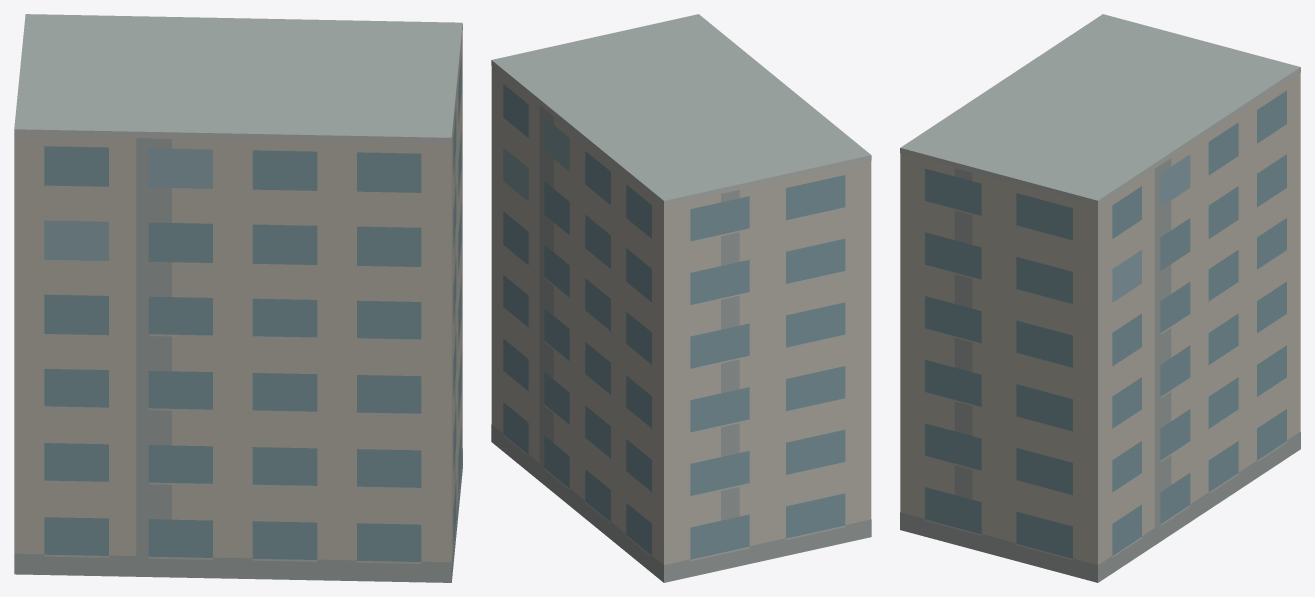
Rendered from survey-upis-32765903.glb.
The picture shows the model from 3 angles, left to right: view 1: azimuth 30°, elevation 25°; view 2: azimuth 150°, elevation 25°; view 3: azimuth 270°, elevation 25°; orthographic projection. The views are drawn at different scales.
Visible parts, largest first — view 1: survey-upis-32765903.tmp; view 2: survey-upis-32765903.tmp; view 3: survey-upis-32765903.tmp.
Boxes of the visible parts, x1,y1,x2,y2 form: survey-upis-32765903.tmp: (14, 14, 462, 582); survey-upis-32765903.tmp: (491, 14, 871, 582); survey-upis-32765903.tmp: (900, 14, 1300, 582).
Size of the model in its own units: 17.3 by 16.5 by 15.69.
